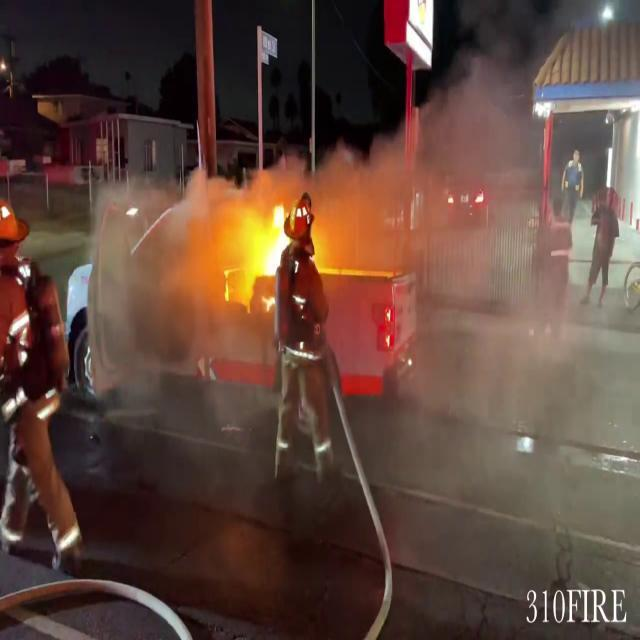Fire: (228, 185, 294, 306)
Smoke: (324, 65, 628, 479), (74, 143, 260, 428)
